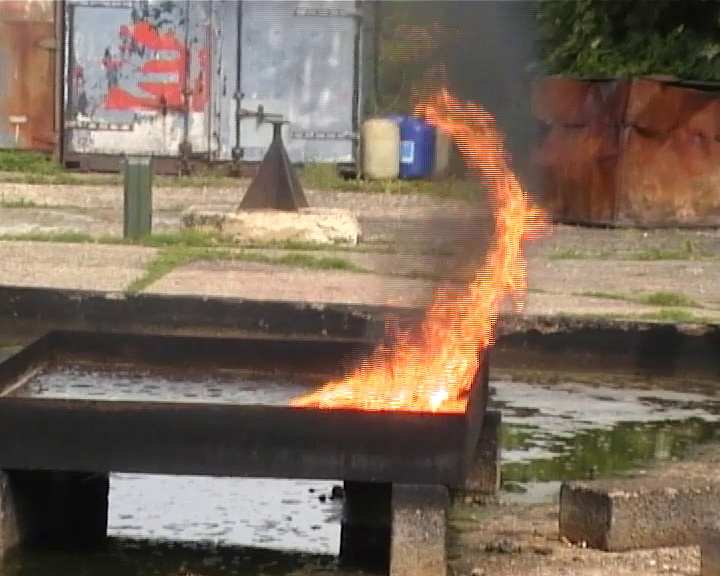fire: (298, 87, 541, 411)
